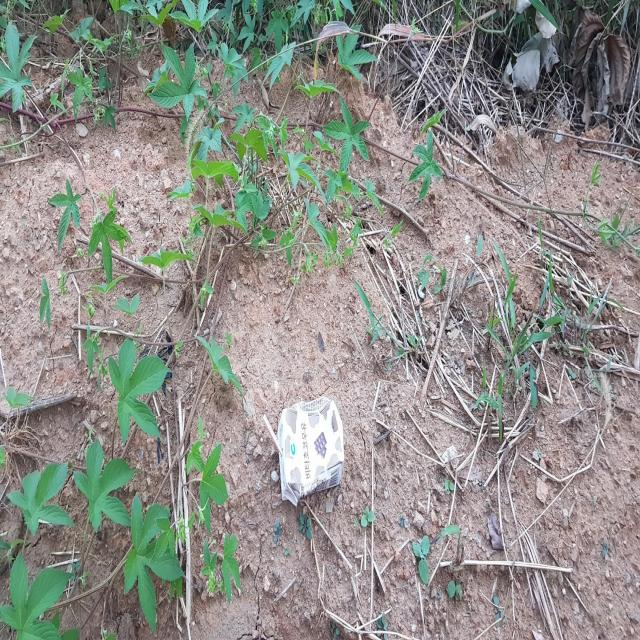paperpack: (277, 395, 344, 505)
